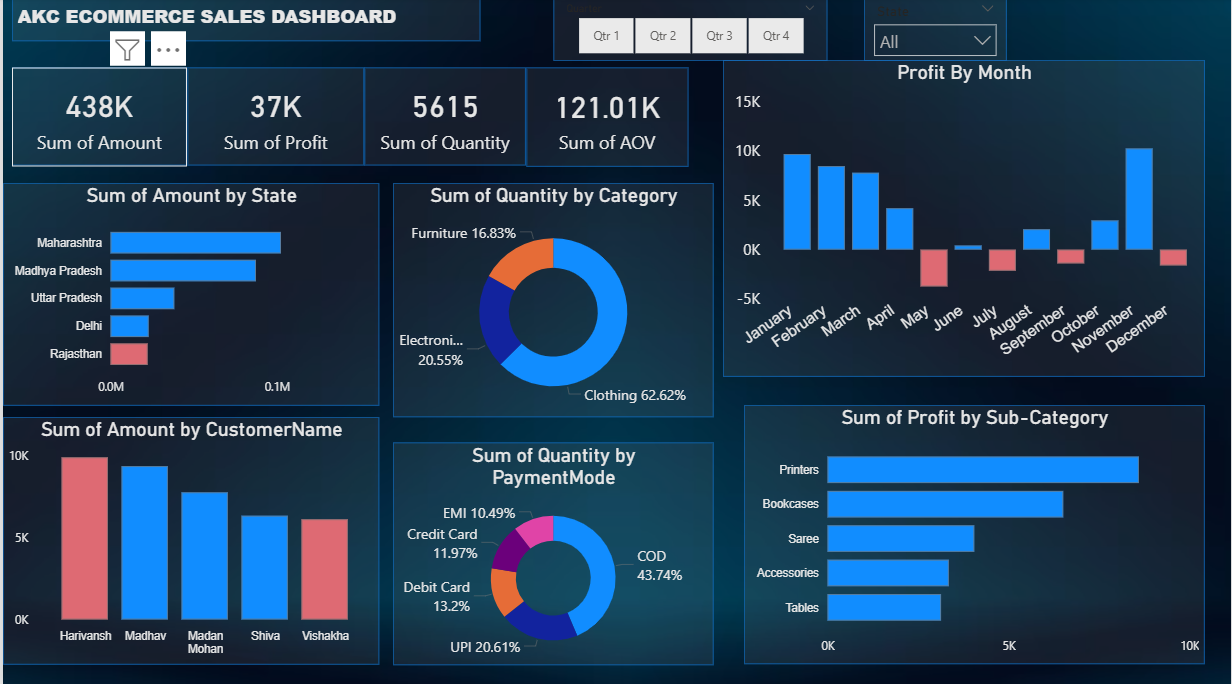

This screenshot's page, from the dashboard's own definition file:
{"tool":"powerbi","page":{"name":"Ecommerce Sales Data","canvas":[1280,720],"ordinal":0},"visuals":[{"type":"textbox","box":[10,0,488,46],"z":0},{"type":"columnChart","title":"Profit By Month","fields":{"Category":["Orders.Order Date.Variation.Date Hierarchy.Month"],"Y":["Details.Profit"]},"box":[750,66,502,330],"z":1000},{"type":"barChart","fields":{"Y":["Details.Profit"],"Category":["Details.Sub-Category"]},"box":[771.7,425,480,270],"z":2000},{"type":"donutChart","fields":{"Category":["Details.Category"],"Y":["Details.Quantity"]},"box":[406,194,334,244],"z":3000},{"type":"donutChart","fields":{"Y":["Details.Quantity"],"Category":["Details.PaymentMode"]},"box":[406,464,334,232],"z":4000},{"type":"card","fields":{"Values":["Details.Amount"]},"box":[10,74,182,102],"z":5000},{"type":"card","fields":{"Values":["Details.Profit"]},"box":[192,74,184,102],"z":6000},{"type":"card","fields":{"Values":["Details.Quantity"]},"box":[376,74,168,102],"z":7000},{"type":"card","fields":{"Values":["Details.AOV"]},"box":[545,73.3,168.3,103.3],"z":8000},{"type":"barChart","fields":{"Category":["Orders.State"],"Y":["Details.Amount"]},"box":[0,194,392,232],"z":9000},{"type":"columnChart","fields":{"Category":["Orders.CustomerName"],"Y":["Details.Amount"]},"box":[0,438,392,258],"z":10000},{"type":"slicer","fields":{"Values":["Orders.Order Date.Variation.Date Hierarchy.Quarter"]},"box":[573.3,0,285,66.7],"z":11000},{"type":"slicer","fields":{"Values":["Orders.State"]},"box":[896.7,0,148.3,66.7],"z":11001}]}

Visuals, with their boxes in screenshot pixels (x1, y1, x2, y2), scaled from the page's 1280x720 canvas onto the 1232x684 screenshot:
textbox: (left=10, top=0, right=479, bottom=44)
"Profit By Month" columnChart: (left=722, top=63, right=1205, bottom=376)
barChart - Details.Profit x Details.Sub-Category: (left=743, top=404, right=1205, bottom=660)
donutChart - Details.Category x Details.Quantity: (left=391, top=184, right=712, bottom=416)
donutChart - Details.Quantity x Details.PaymentMode: (left=391, top=441, right=712, bottom=661)
card - Details.Amount: (left=10, top=70, right=185, bottom=167)
card - Details.Profit: (left=185, top=70, right=362, bottom=167)
card - Details.Quantity: (left=362, top=70, right=524, bottom=167)
card - Details.AOV: (left=525, top=70, right=687, bottom=168)
barChart - Orders.State x Details.Amount: (left=0, top=184, right=377, bottom=405)
columnChart - Orders.CustomerName x Details.Amount: (left=0, top=416, right=377, bottom=661)
slicer - Orders.Order Date.Variation.Date Hierarchy.Quarter: (left=552, top=0, right=826, bottom=63)
slicer - Orders.State: (left=863, top=0, right=1006, bottom=63)
